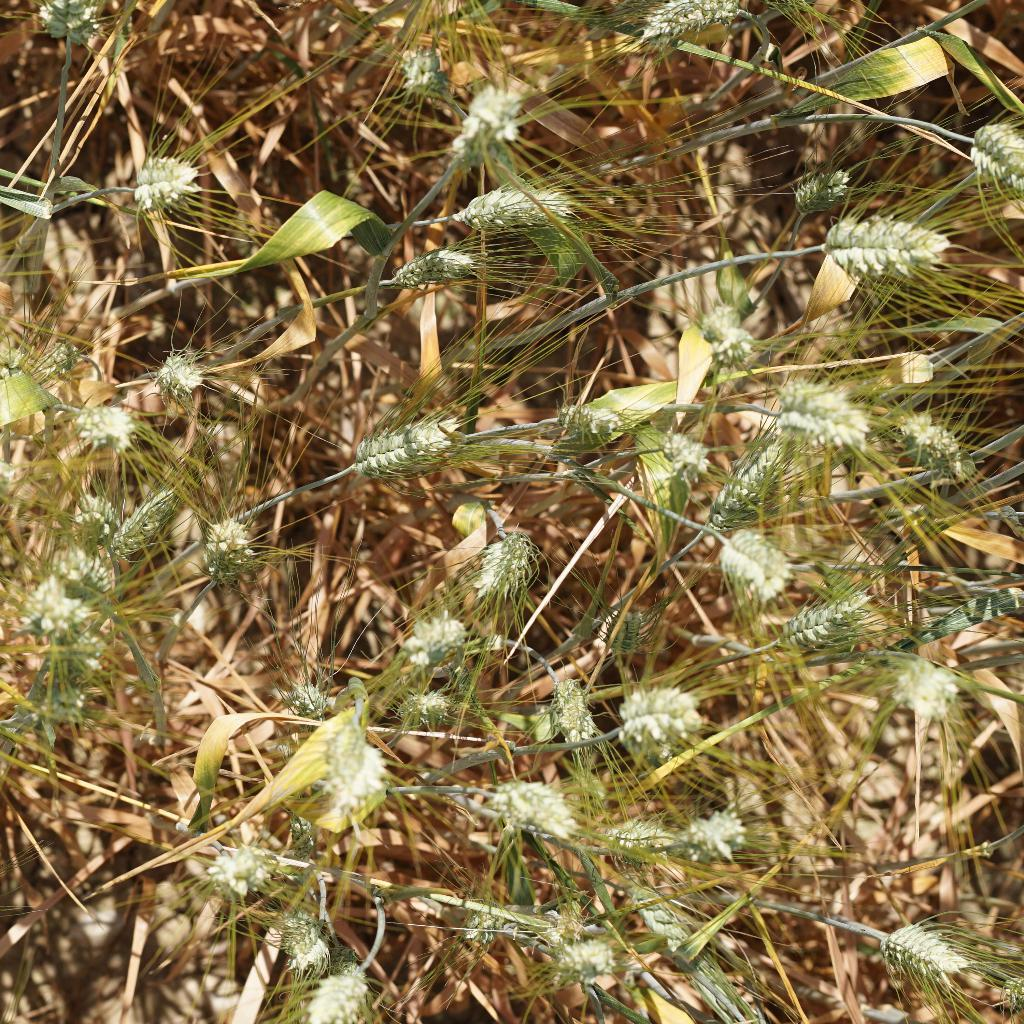0-0: (747, 574, 892, 671), (687, 425, 808, 537), (864, 905, 985, 993), (821, 210, 950, 281), (606, 676, 714, 752), (706, 520, 803, 604), (475, 769, 579, 847), (345, 407, 459, 478), (772, 376, 873, 456), (247, 897, 352, 971), (321, 724, 397, 819), (464, 523, 545, 612), (453, 176, 586, 230), (200, 826, 292, 899), (608, 0, 746, 48), (107, 477, 185, 560), (449, 79, 527, 160), (144, 335, 231, 406), (888, 657, 970, 731), (296, 959, 389, 1024), (384, 34, 464, 109), (116, 156, 205, 221), (893, 403, 970, 477), (539, 669, 602, 758), (68, 387, 144, 460), (776, 154, 860, 220), (619, 877, 694, 950), (672, 806, 762, 866), (25, 665, 105, 730), (694, 288, 761, 365), (403, 608, 478, 676), (957, 107, 1024, 181), (594, 806, 668, 871), (17, 582, 97, 642), (397, 684, 473, 744), (64, 475, 126, 548), (542, 393, 619, 448), (393, 235, 467, 292), (647, 419, 716, 479), (542, 934, 623, 985), (43, 544, 116, 600), (462, 890, 526, 952), (271, 673, 343, 728), (586, 589, 649, 651), (30, 0, 107, 50), (22, 328, 89, 382), (201, 503, 253, 572), (277, 808, 318, 868)
